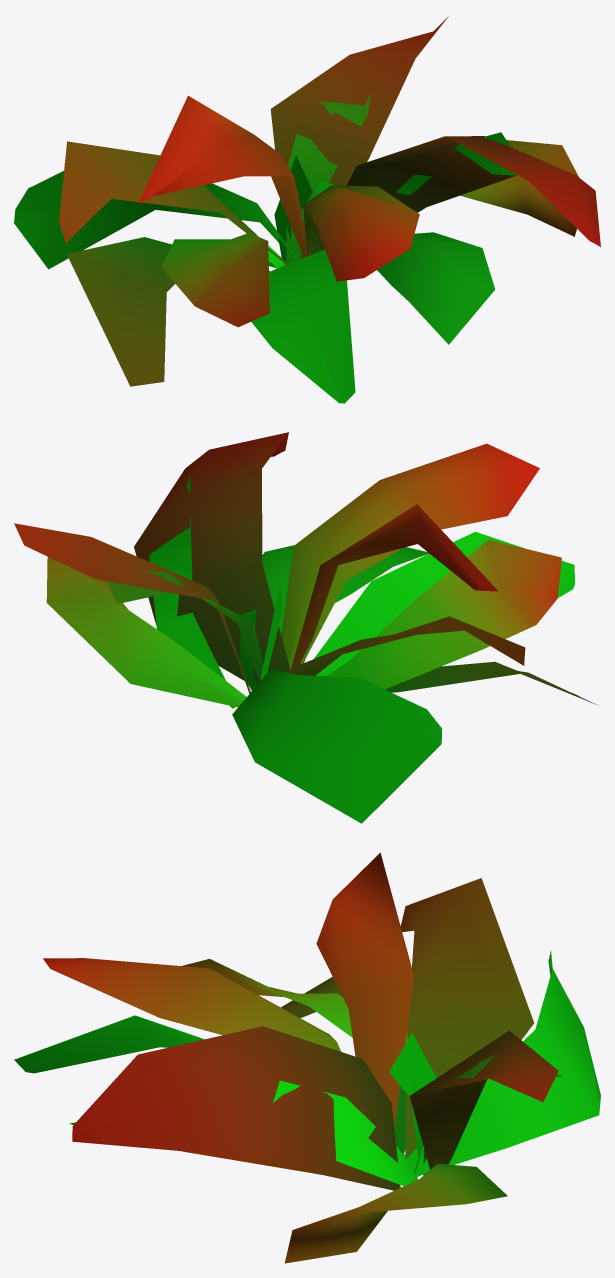
File: Fern_LOD2_Var5_rmAsg.fbx
3 views of the same model, one above another, from view 1: azimuth 30°, elevation 25°; view 2: azimuth 150°, elevation 25°; view 3: azimuth 270°, elevation 25° (orthographic). The views are drawn at different scales.
Visible parts, largest first — view 1: _63dc_Var5_LOD2; view 2: _63dc_Var5_LOD2; view 3: _63dc_Var5_LOD2.
Boxes of the visible parts, x1,y1,x2,y2 form: _63dc_Var5_LOD2: (14, 16, 600, 403); _63dc_Var5_LOD2: (14, 432, 597, 823); _63dc_Var5_LOD2: (14, 852, 600, 1263).
Bounding box in the file's own units: 147 × 67.34 × 135.
